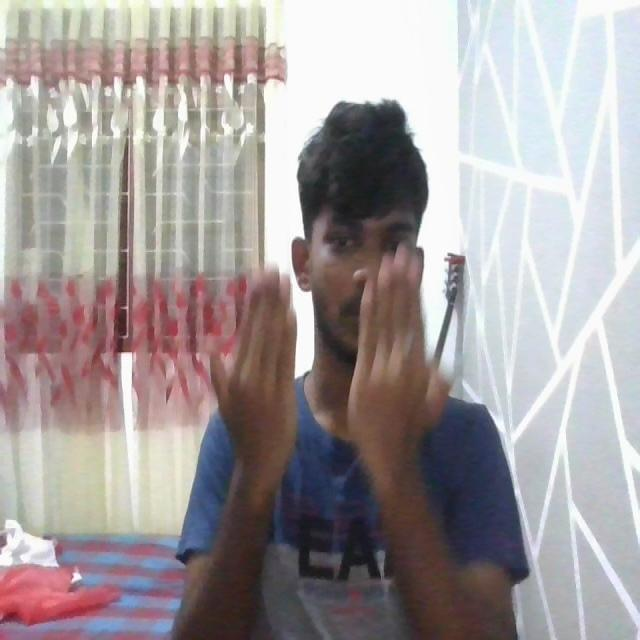ThankYou: (165, 245, 528, 638)
